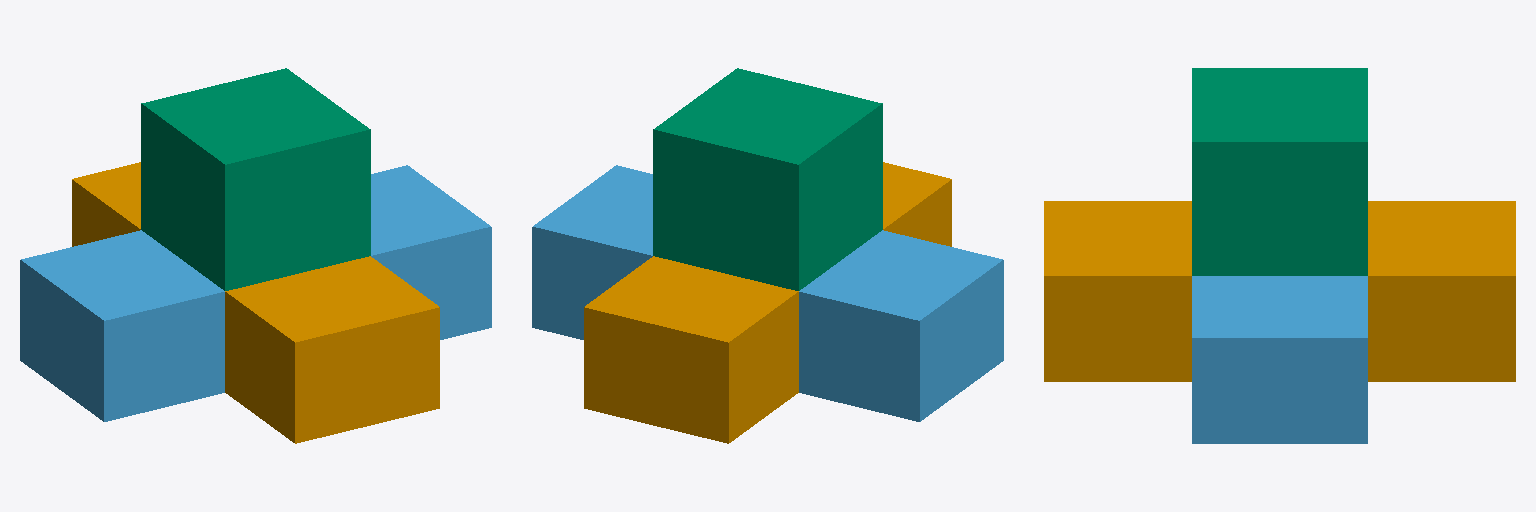
URDF robot description (plus):
<?xml version="1.0"?>
<robot name="plus">
  <link name="plus1">
    <inertial>
      <mass value="1"/>
    	<inertia ixx="0.167" ixy="0" ixz="0" iyy="0.167" iyz="0" izz="0.167"/>
  	</inertial>
    <collision>
      <geometry>
        <box size="0.03 0.08 0.02"/>
      </geometry>
    </collision>
    <visual>
      <geometry>
        <box size="0.03 0.08 0.02"/>
      </geometry>
    </visual>
  </link>

  <link name="plus2">
    <inertial>
      <mass value="1"/>
    	<inertia ixx="0.167" ixy="0" ixz="0" iyy="0.167" iyz="0" izz="0.167"/>
  	</inertial>
    <collision>
      <geometry>
        <box size="0.08 0.03 0.02"/>
      </geometry>
    </collision>
    <visual>
      <geometry>
        <box size="0.08 0.03 0.02"/>
      </geometry>
    </visual>
  </link>

  <link name="handle">

    <inertial>
      <mass value="1"/>
    	<inertia ixx="0.167" ixy="0" ixz="0" iyy="0.167" iyz="0" izz="0.167"/>
  	</inertial>

    <collision>
      <geometry>
        <box size="0.03 0.03 0.025"/>
      </geometry>
	<origin rpy="0 0 0" xyz="0 0 0.0225"/>
    </collision>
    <visual>
      <geometry>
        <box size="0.03 0.03 0.025"/>
      </geometry>
	<origin rpy="0 0 0" xyz="0 0 0.0225"/>
    </visual>
  </link>

  <joint name="plus1_to_plus2" type="fixed">
    <parent link="plus1"/>
    <child link="plus2"/>
  </joint>

  <joint name="plus1_to_handle" type="fixed">
    <parent link="plus1"/>
    <child link="handle"/>
  </joint>

</robot>

--- What the picture shows (computed from the rendered views, not written in the file) ---
The picture shows the robot from 3 angles, left to right: view 1: azimuth 30°, elevation 25°; view 2: azimuth 150°, elevation 25°; view 3: azimuth 270°, elevation 25°; orthographic projection.
Model plus with 3 links and 2 joints (2 fixed), rooted at plus1, posed all joints at 0.
Visible links, largest first — view 1: plus2, handle, plus1; view 2: plus2, handle, plus1; view 3: plus1, handle, plus2.
Boxes of the visible links, x1,y1,x2,y2 form: plus2: (20,165,491,421); handle: (141,68,370,290); plus1: (72,162,439,443); plus2: (532,165,1003,421); handle: (653,68,882,290); plus1: (584,162,951,443); plus1: (1044,201,1515,381); handle: (1192,68,1367,275); plus2: (1192,276,1367,443).
Bounding box of the posed robot: 0.08 × 0.08 × 0.045 m (x, y, z).
Geometry: primitives only (box / cylinder / sphere), no mesh files.